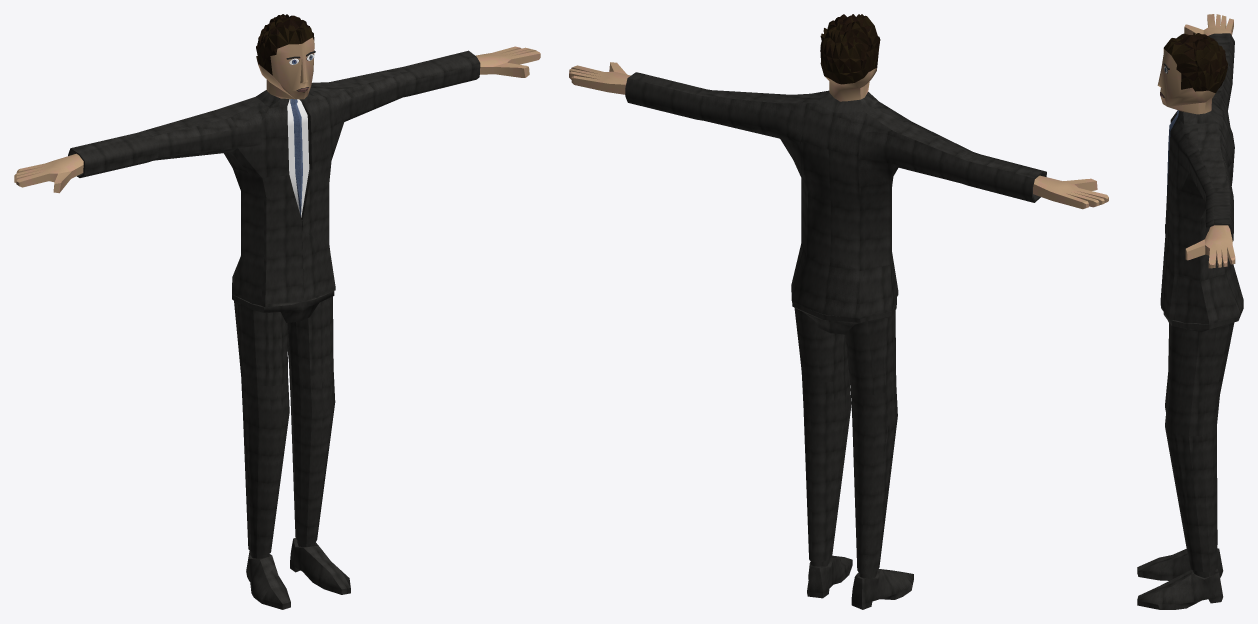
File: ryder.fbx
3 renders of one model, left to right at view 1: azimuth 30°, elevation 25°; view 2: azimuth 150°, elevation 25°; view 3: azimuth 270°, elevation 25°, orthographic. The views are drawn at different scales.
Parts seen in each view (by area): view 1: Ryder, HeadFace, Hair001; view 2: Ryder, Hair001, HeadFace; view 3: Ryder, Hair001, HeadFace.
Part boxes in pixels (x1,y1,x2,y2): Ryder: [14, 46, 540, 609]; HeadFace: [258, 37, 315, 99]; Hair001: [256, 14, 314, 75]; Ryder: [569, 62, 1108, 609]; Hair001: [820, 14, 880, 84]; HeadFace: [825, 47, 879, 101]; Ryder: [1137, 14, 1243, 609]; Hair001: [1164, 33, 1227, 93]; HeadFace: [1157, 48, 1215, 114].
Bounding box in the file's own units: 187 × 193 × 33.58.
Materials: 9 (7 with a texture image).
